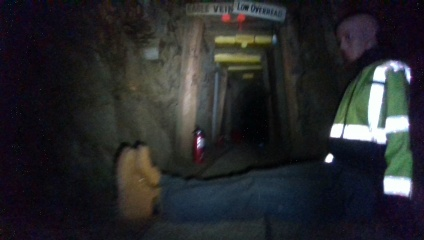fire_extinguisher: (191, 125, 206, 169)
manikin: (111, 11, 413, 227)
